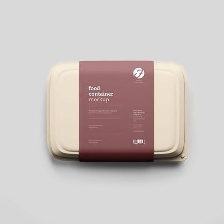plastic_box: (38, 53, 195, 168)
